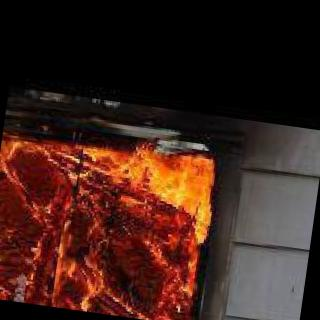fire: (0, 120, 226, 320)
